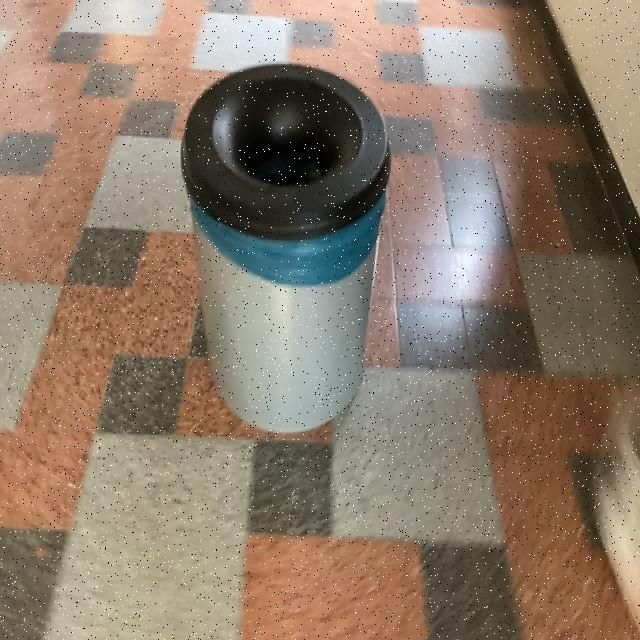garbage container: (173, 55, 402, 463)
